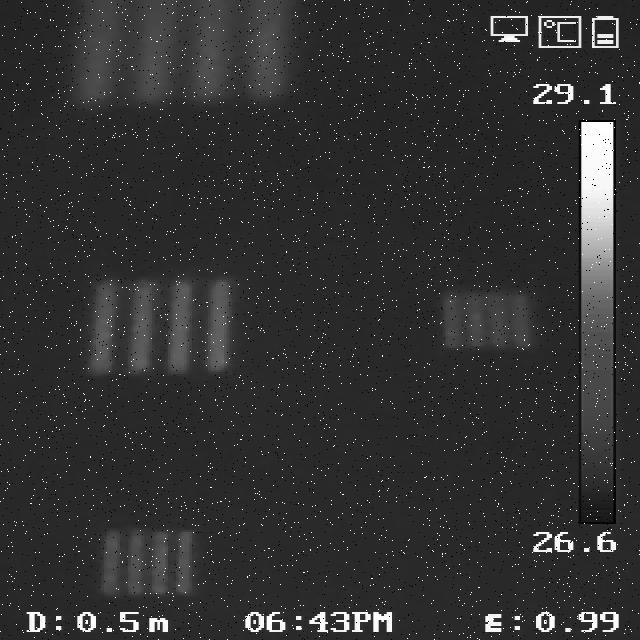Distinguishable 4-bar target: (58, 4, 294, 107), (76, 265, 241, 377), (96, 523, 203, 597), (435, 288, 540, 353)
